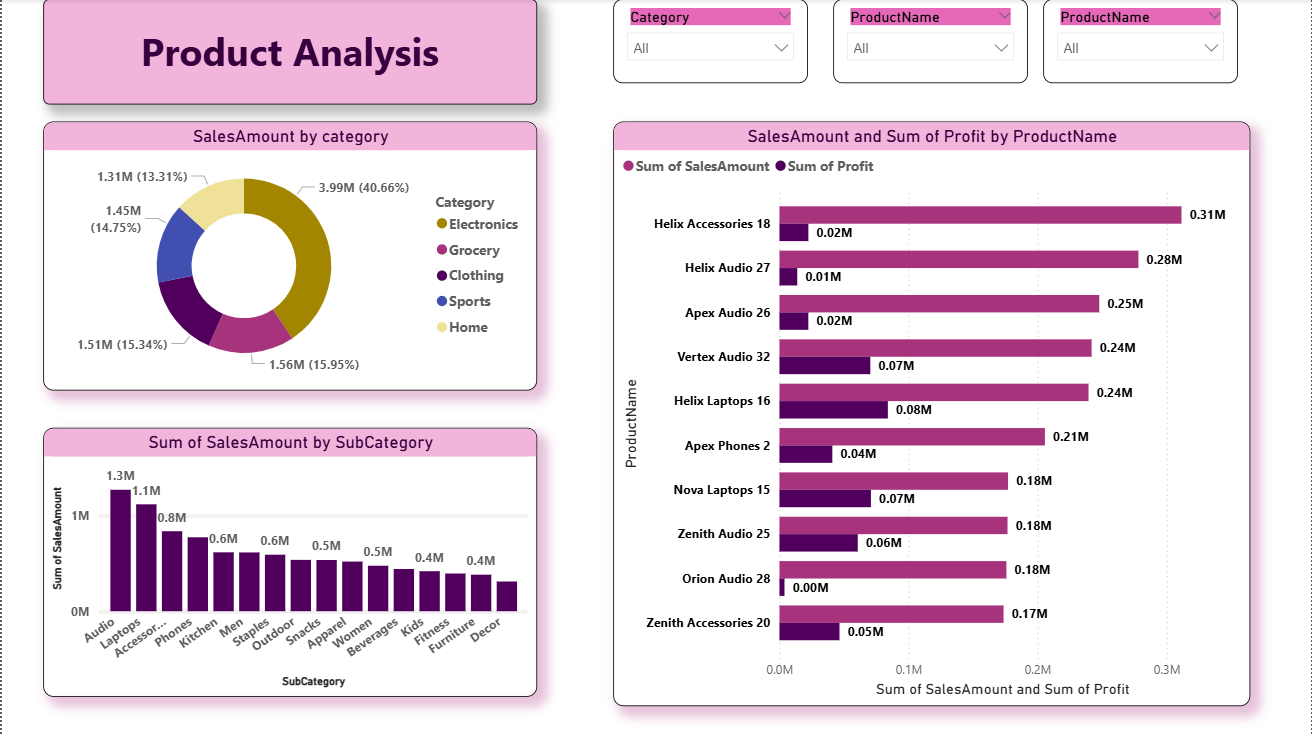

The page's visual inventory and layout, read from the dashboard file:
{"tool":"powerbi","page":{"name":"Product Analysis","canvas":[1280,720],"ordinal":1},"visuals":[{"type":"donutChart","title":" SalesAmount by category","fields":{"Y":["Sum(FactSales.SalesAmount)"],"Category":["DimProduct.Category"]},"box":[39.8,119.4,483,263.5],"z":0},{"type":"columnChart","fields":{"Category":["DimProduct.SubCategory"],"Y":["Sum(FactSales.SalesAmount)"]},"box":[39.8,419.9,483,263.5],"z":1000},{"type":"clusteredBarChart","title":" SalesAmount and Sum of Profit by ProductName","fields":{"Category":["DimProduct.ProductName"],"Y":["Sum(FactSales.SalesAmount)","Sum(FactSales.Profit)"]},"box":[598.3,119.4,623,572.2],"z":2000},{"type":"textbox","box":[39.8,0,483,102.9],"z":3000},{"type":"slicer","fields":{"Values":["DimProduct.Category"]},"box":[598.3,0,190.7,82.3],"z":4000},{"type":"slicer","fields":{"Values":["DimProduct.ProductName"]},"box":[813.7,0,190.7,82.3],"z":5000},{"type":"slicer","fields":{"Values":["DimProduct.ProductName"]},"box":[1018.2,0,190.7,82.3],"z":6000}]}

Visuals, with their boxes in screenshot pixels (x1, y1, x2, y2), scaled from the page's 1280x720 canvas onto the 1312x735 screenshot:
" SalesAmount by category" donutChart: locate(41, 122, 536, 391)
columnChart - DimProduct.SubCategory x Sum(FactSales.SalesAmount): locate(41, 429, 536, 698)
" SalesAmount and Sum of Profit by ProductName" clusteredBarChart: locate(613, 122, 1252, 706)
textbox: locate(41, 0, 536, 105)
slicer - DimProduct.Category: locate(613, 0, 809, 84)
slicer - DimProduct.ProductName: locate(834, 0, 1030, 84)
slicer - DimProduct.ProductName: locate(1044, 0, 1239, 84)
